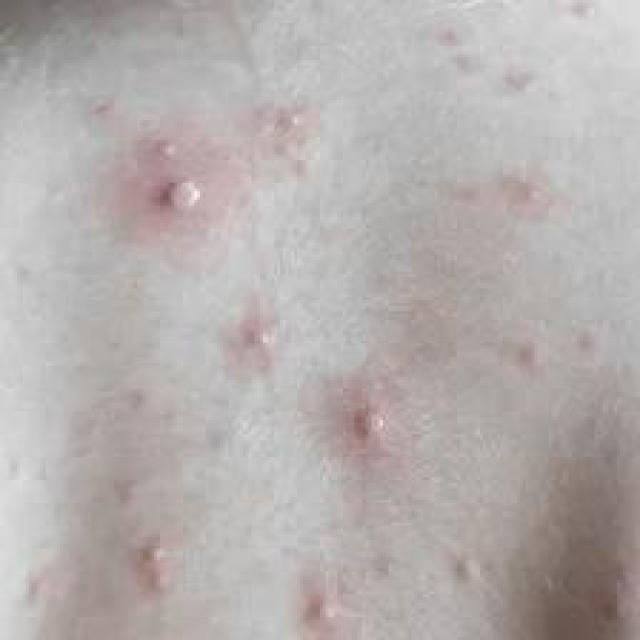others: (100, 93, 592, 640)
